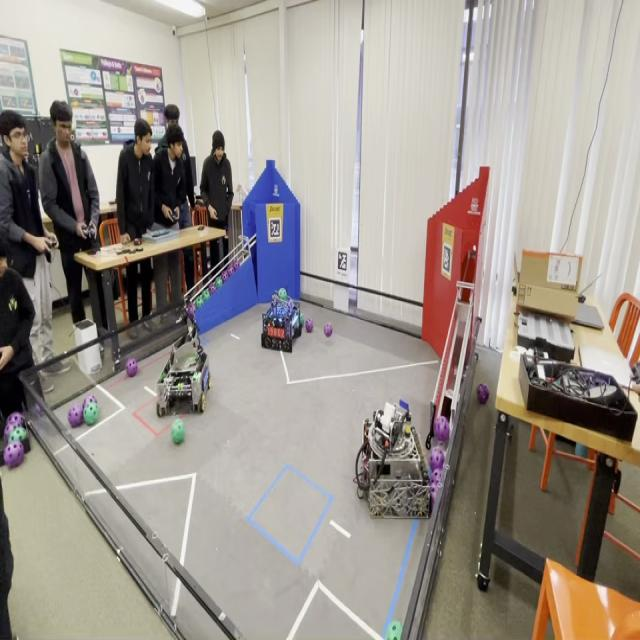artifact_green: (6, 412, 24, 437), (434, 416, 450, 444), (171, 419, 185, 445), (84, 402, 99, 425), (9, 427, 27, 443), (386, 622, 402, 639), (82, 395, 97, 410), (126, 358, 137, 376), (575, 444, 589, 458), (187, 301, 196, 321), (208, 281, 217, 295), (278, 288, 287, 301), (221, 269, 230, 282), (215, 276, 223, 289), (202, 288, 209, 302), (227, 262, 235, 274), (233, 260, 241, 272), (196, 296, 203, 309), (188, 355, 197, 363), (194, 297, 200, 309), (199, 293, 205, 305), (192, 374, 199, 382), (160, 371, 165, 382), (300, 313, 305, 324), (178, 382, 183, 391)
artifact_purple: (4, 413, 25, 443), (4, 441, 24, 468), (434, 416, 449, 444), (68, 403, 83, 427), (430, 447, 445, 470), (477, 383, 489, 405), (6, 412, 24, 426), (4, 424, 16, 443), (82, 395, 97, 410), (126, 358, 137, 376), (430, 483, 437, 511), (431, 469, 442, 484), (324, 322, 333, 338), (187, 303, 195, 321), (305, 318, 313, 333), (209, 281, 216, 295), (222, 270, 230, 282), (227, 264, 235, 274), (233, 260, 240, 271), (428, 467, 432, 482)
